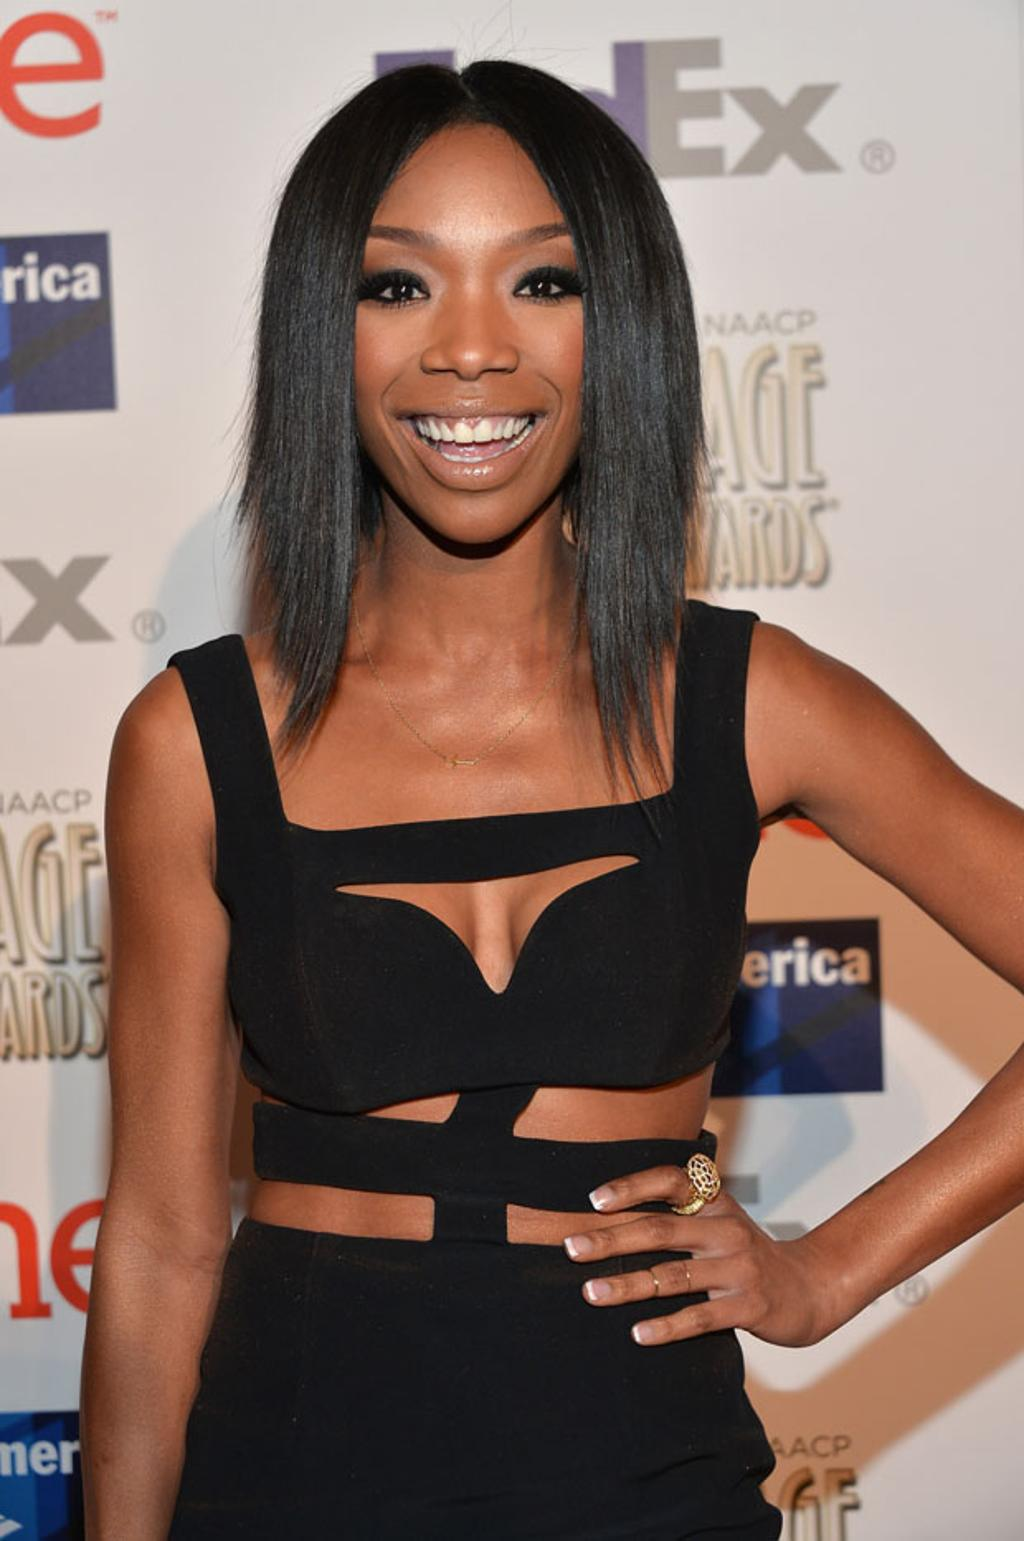face: (349, 130, 608, 549)
